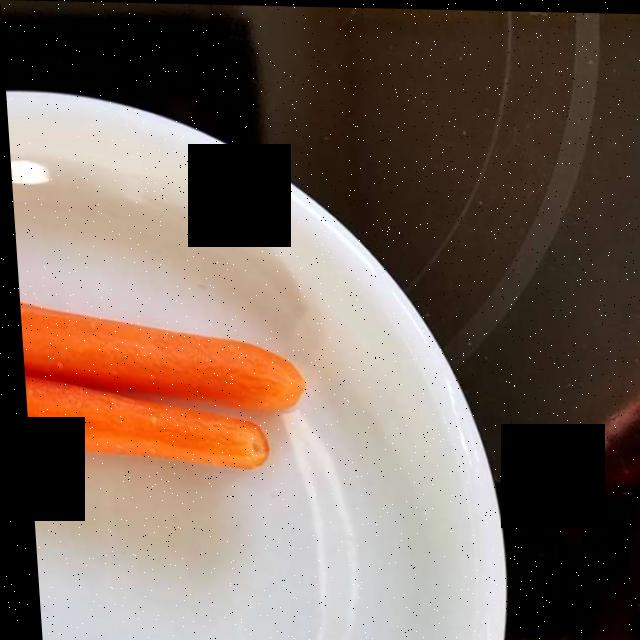carrot-raw: (20, 304, 295, 466)
